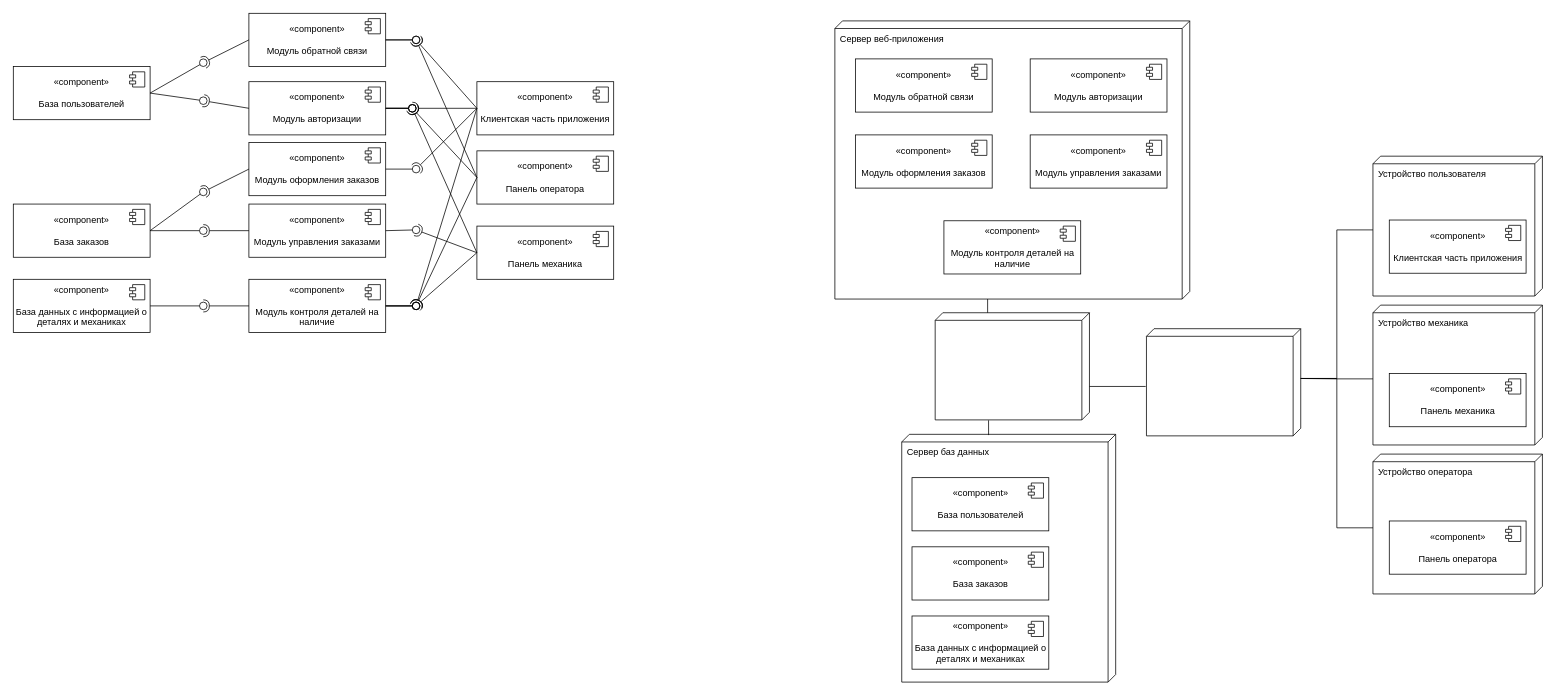
This 1556x695 diagram has some shape labels left out. The shapes that lost their labels are listed below. From the top down, each one's centre as x and y in pixels, then its label:
At (1011,366): "Switch (Объединяет внутренние узлы в LAN)".
At (1223,382): "Интернет".
